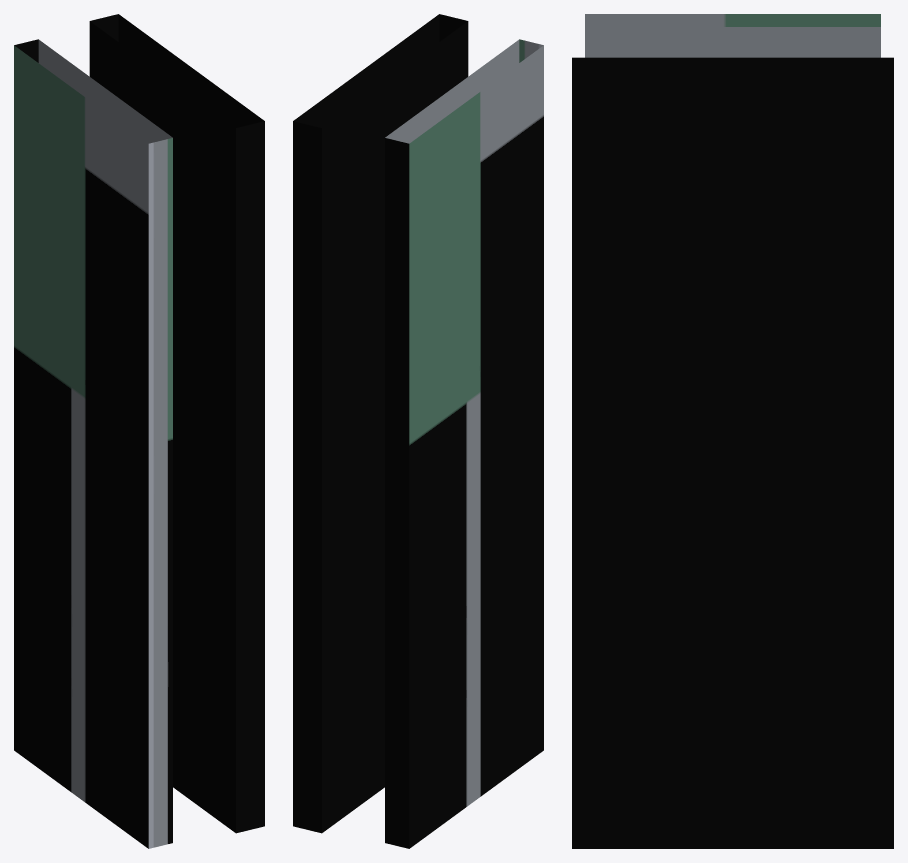
File: section-1.obj
3 renders of one model, left to right at view 1: azimuth 30°, elevation 25°; view 2: azimuth 150°, elevation 25°; view 3: azimuth 270°, elevation 25°, orthographic. The views are drawn at different scales.
Size of the model in its own units: 0.1638 by 1 by 0.3761.
